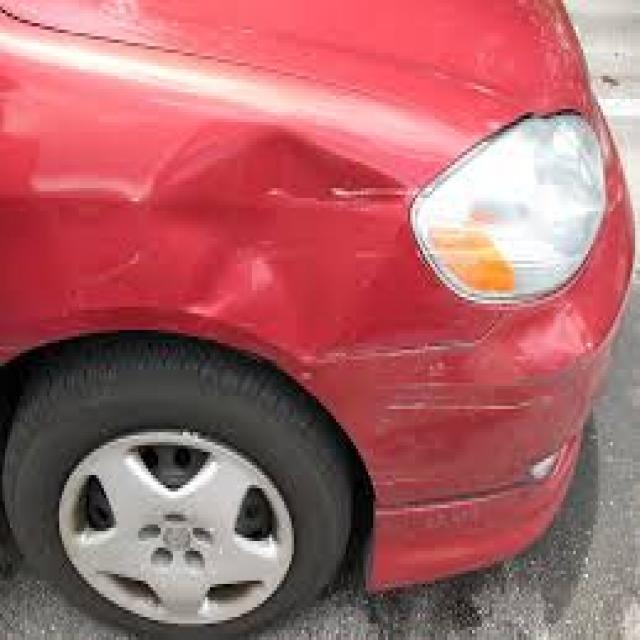dent-or-scratch: (164, 117, 398, 344), (376, 364, 574, 422)
